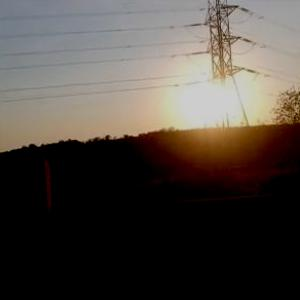follow: (233, 199, 299, 299)
